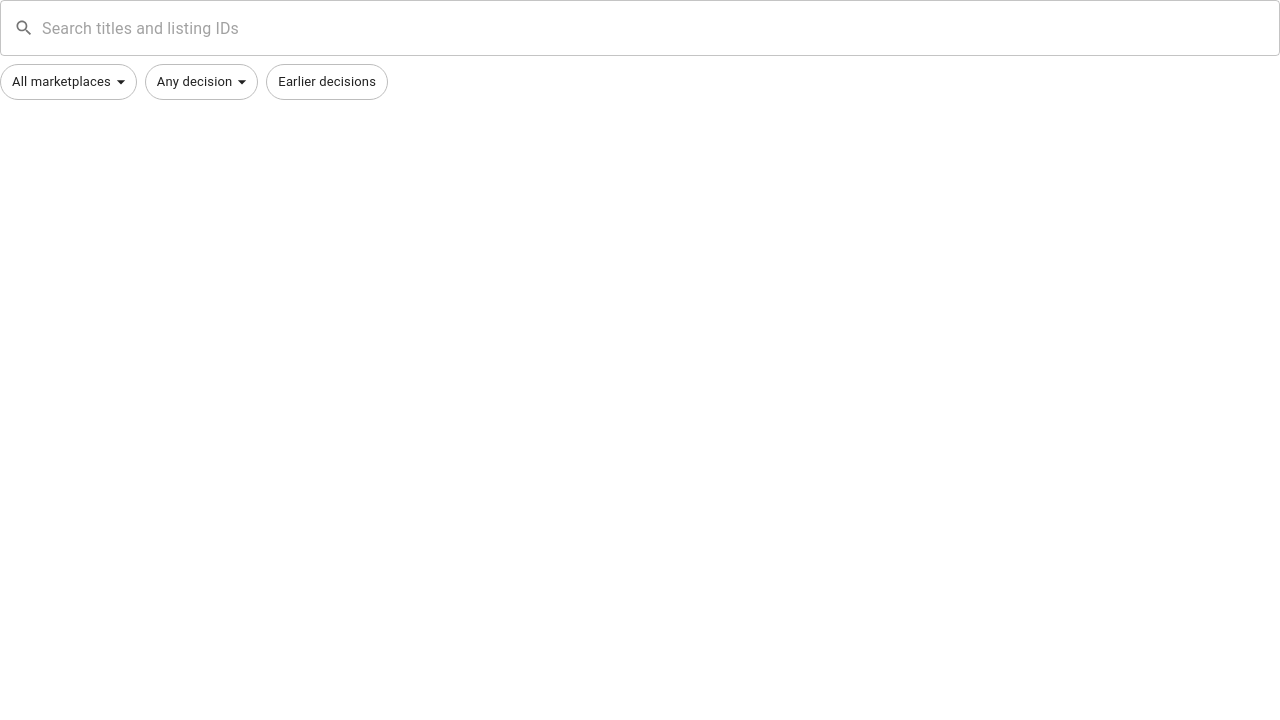
it: FilterBar on a phone › picks a decision from a sheet that shows each one's count
Step 1. Click the button with aria-label "Decision: Any decision" → (202, 82), box [145,64,258,100]
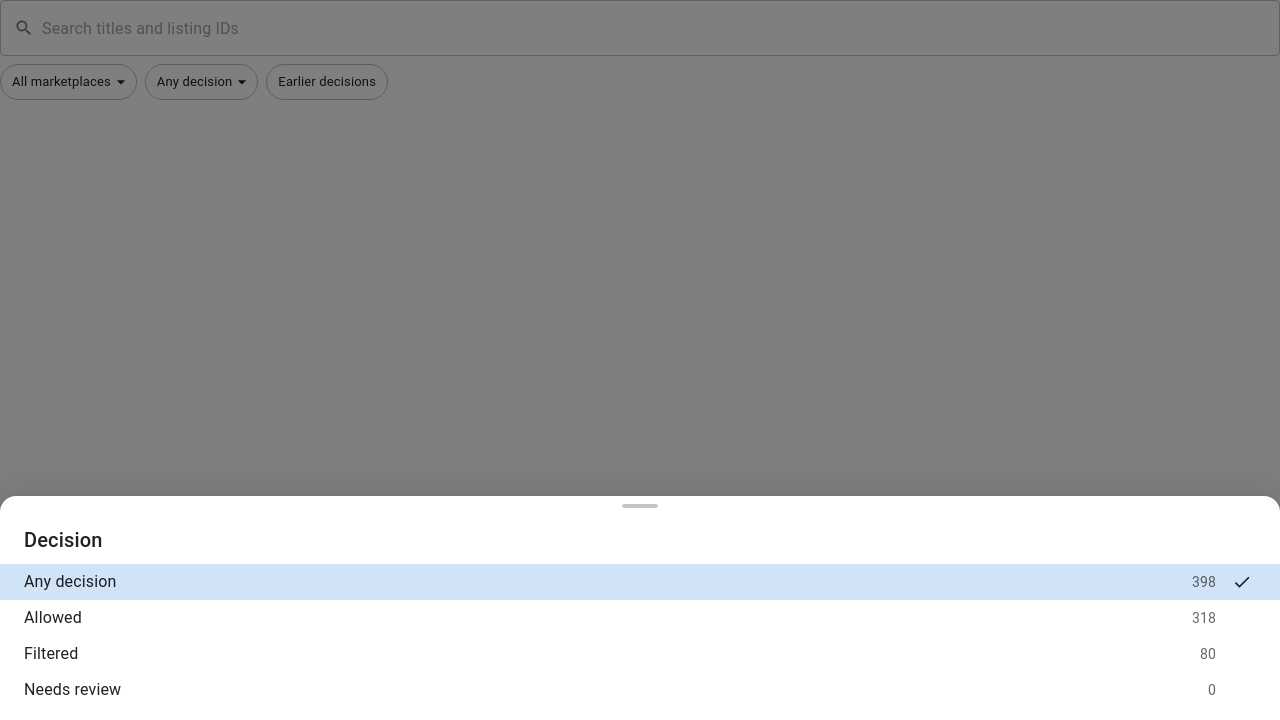
Step 2. Click the menu item "Filtered 80" → (51, 654), box [24,644,1216,663]
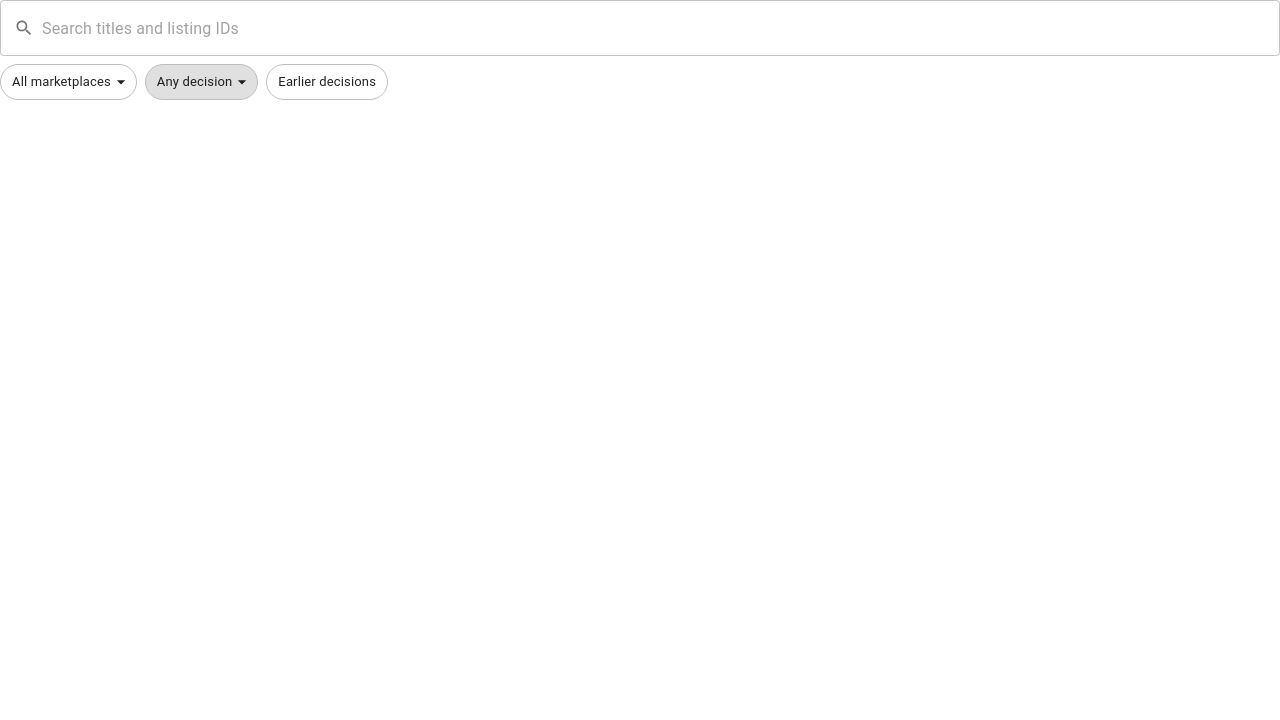
Result: the dialog is gone
